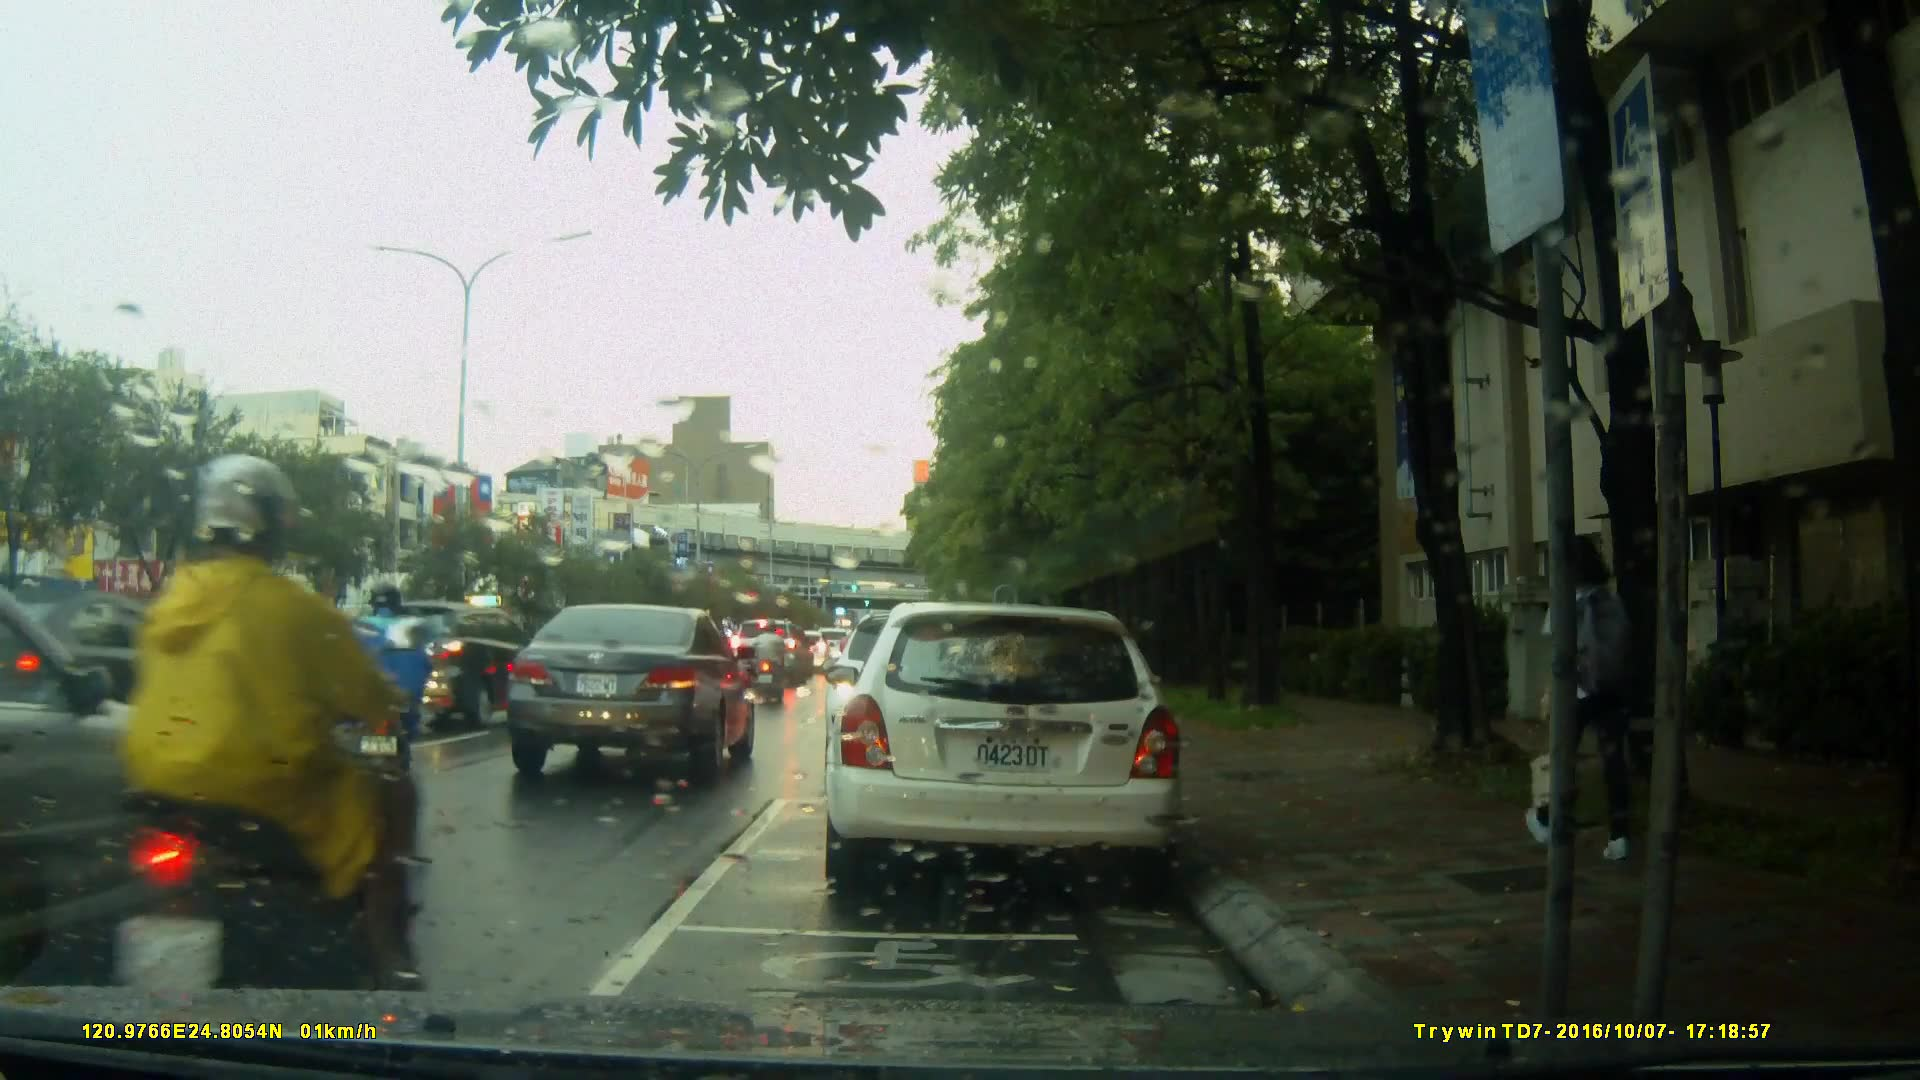pedestrian: (1524, 521, 1632, 862)
rider: (124, 451, 410, 1041), (347, 585, 437, 799), (752, 617, 786, 701)
vehicle: (1, 547, 288, 988), (820, 602, 1188, 898), (502, 602, 760, 783), (1, 596, 233, 730), (350, 599, 556, 733), (733, 619, 814, 690)
